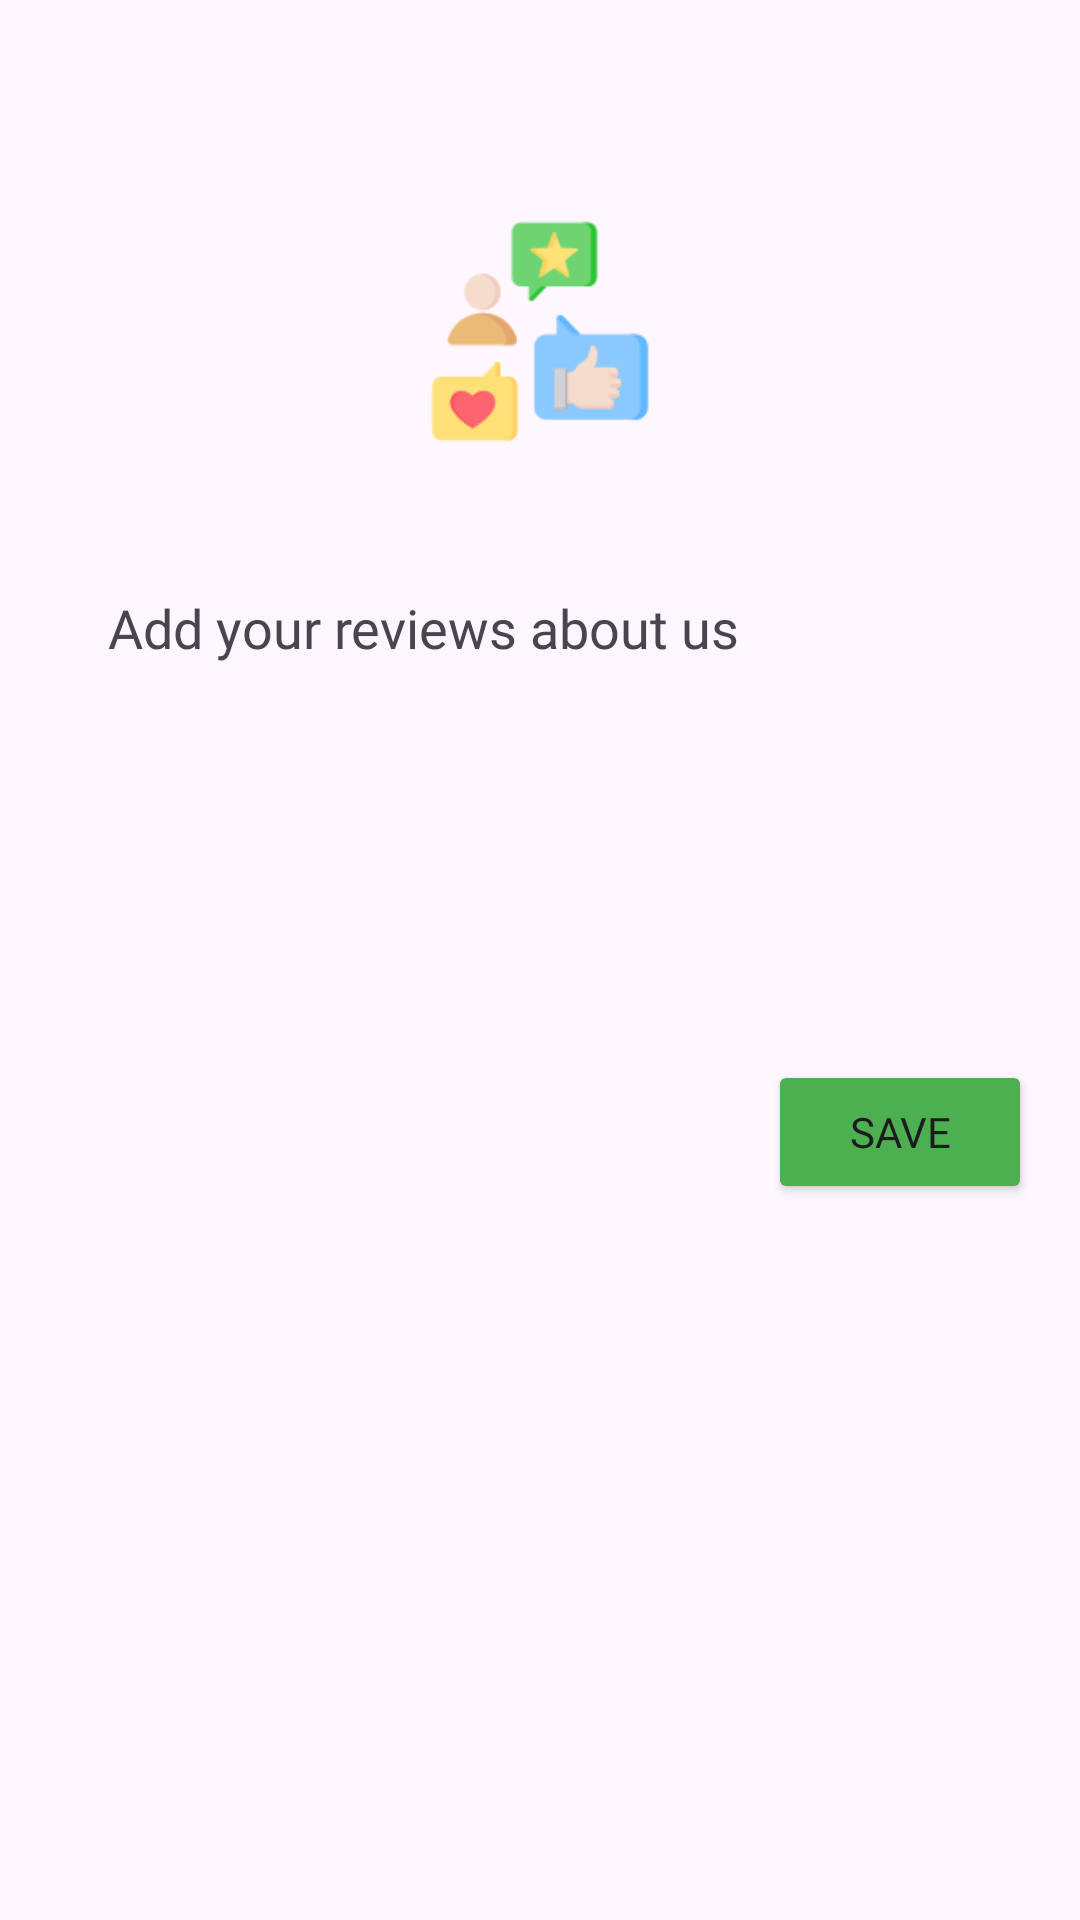

Locate icon controls on the screen. Image size 1080px×1920px, boxes as (x1, y1, x2, y2).
feedback alter: (431, 221, 649, 442)
